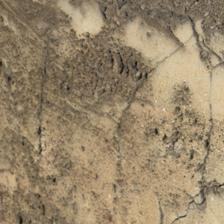Crack: (93, 56, 130, 167), (15, 32, 74, 71)
